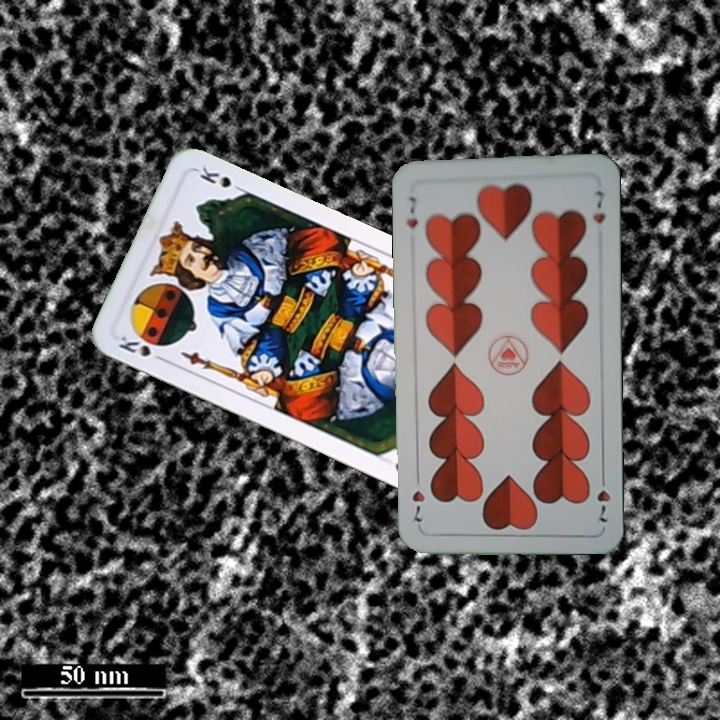H7: (593, 468, 613, 525), (403, 192, 420, 231)
SK: (114, 331, 169, 365)
